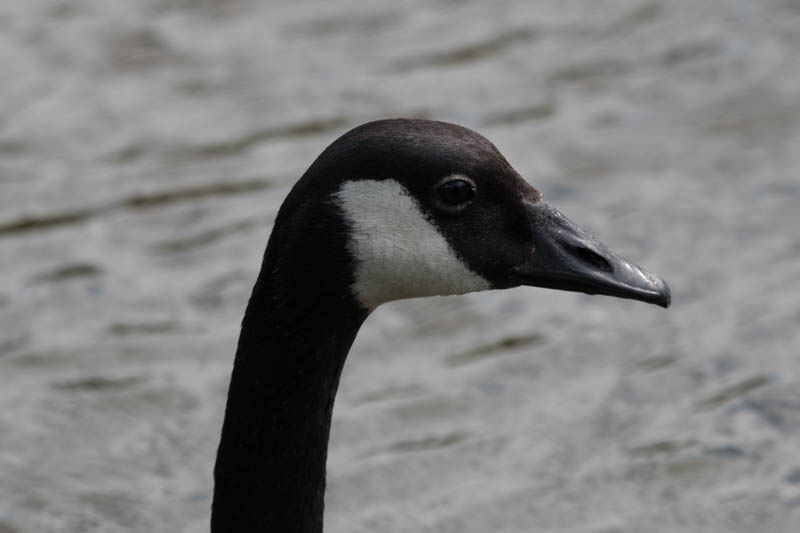goose-head: (244, 118, 670, 311)
